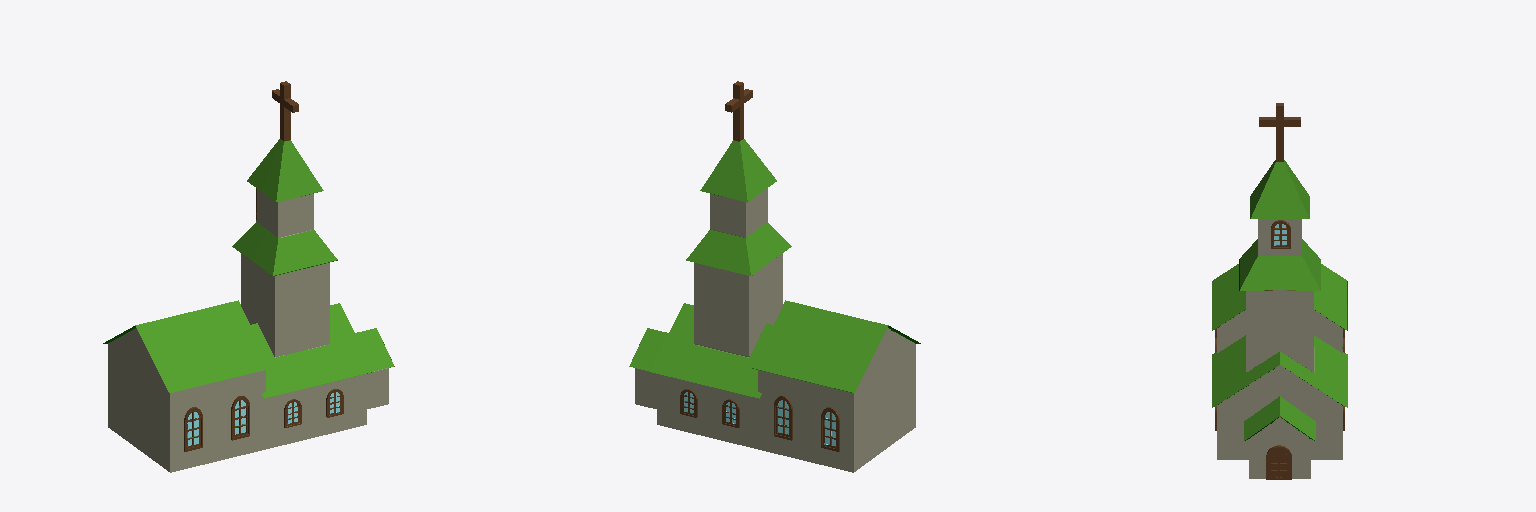
3 renders of one model, left to right at view 1: azimuth 30°, elevation 25°; view 2: azimuth 150°, elevation 25°; view 3: azimuth 270°, elevation 25°, orthographic.
Parts seen in each view (by area): view 1: Cylinder.005; view 2: Cylinder.005; view 3: Cylinder.005.
Part boxes in pixels (bbox=[...]): Cylinder.005: bbox=[103, 81, 394, 472]; Cylinder.005: bbox=[629, 81, 920, 472]; Cylinder.005: bbox=[1212, 103, 1347, 479].
Bounding box in the file's own units: 9.15 × 11.99 × 4.48.
Materials: 1 (1 with a texture image).